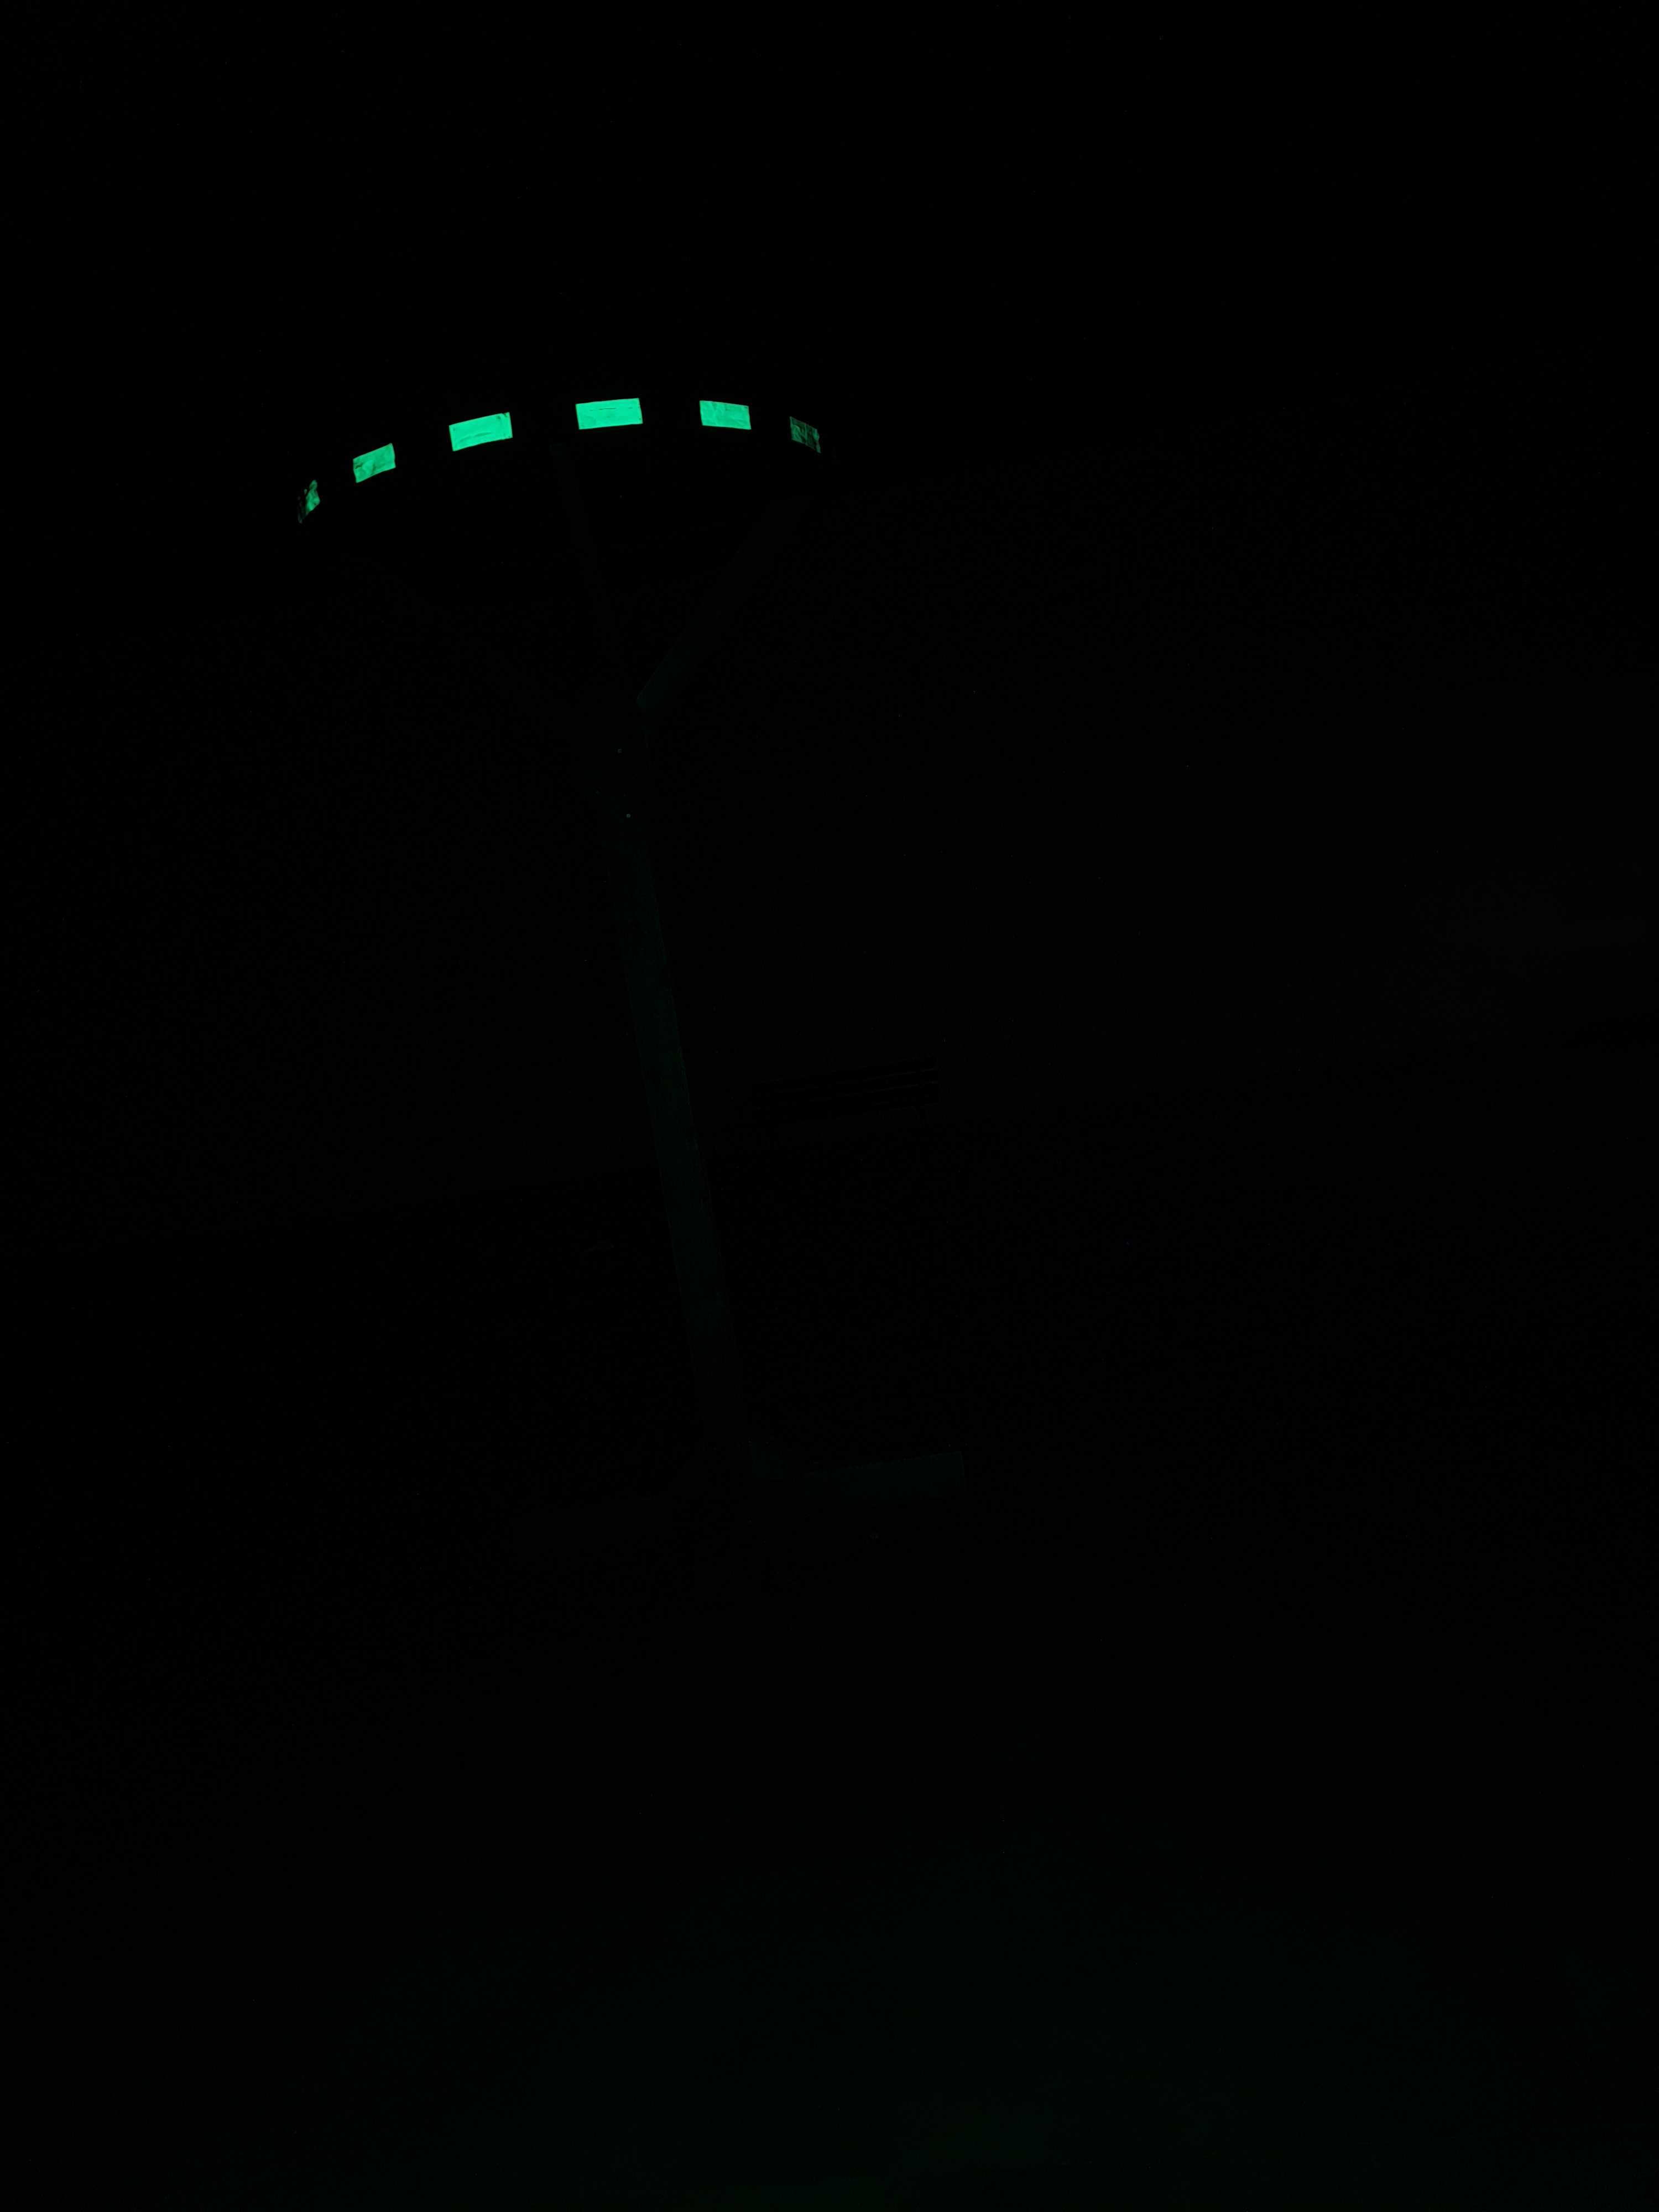hoop: (272, 390, 830, 535)
